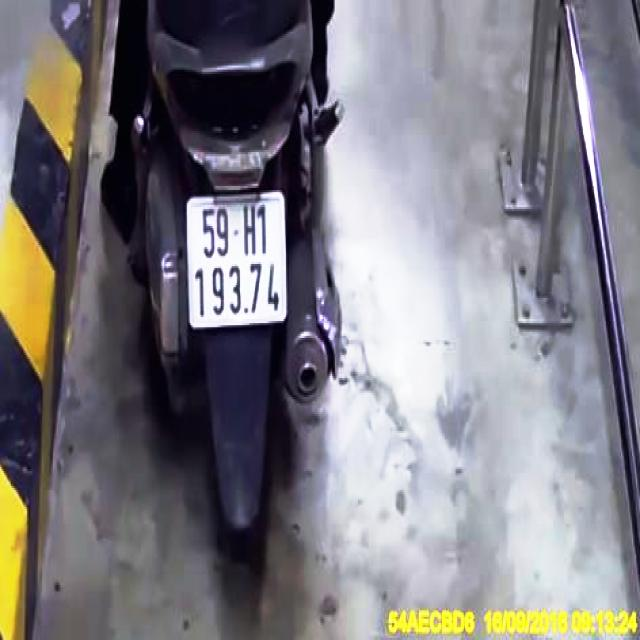license_plate: (191, 196, 290, 329)
